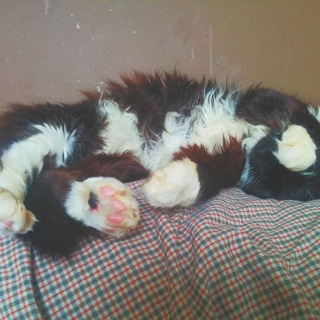Cat: (0, 55, 320, 265)
